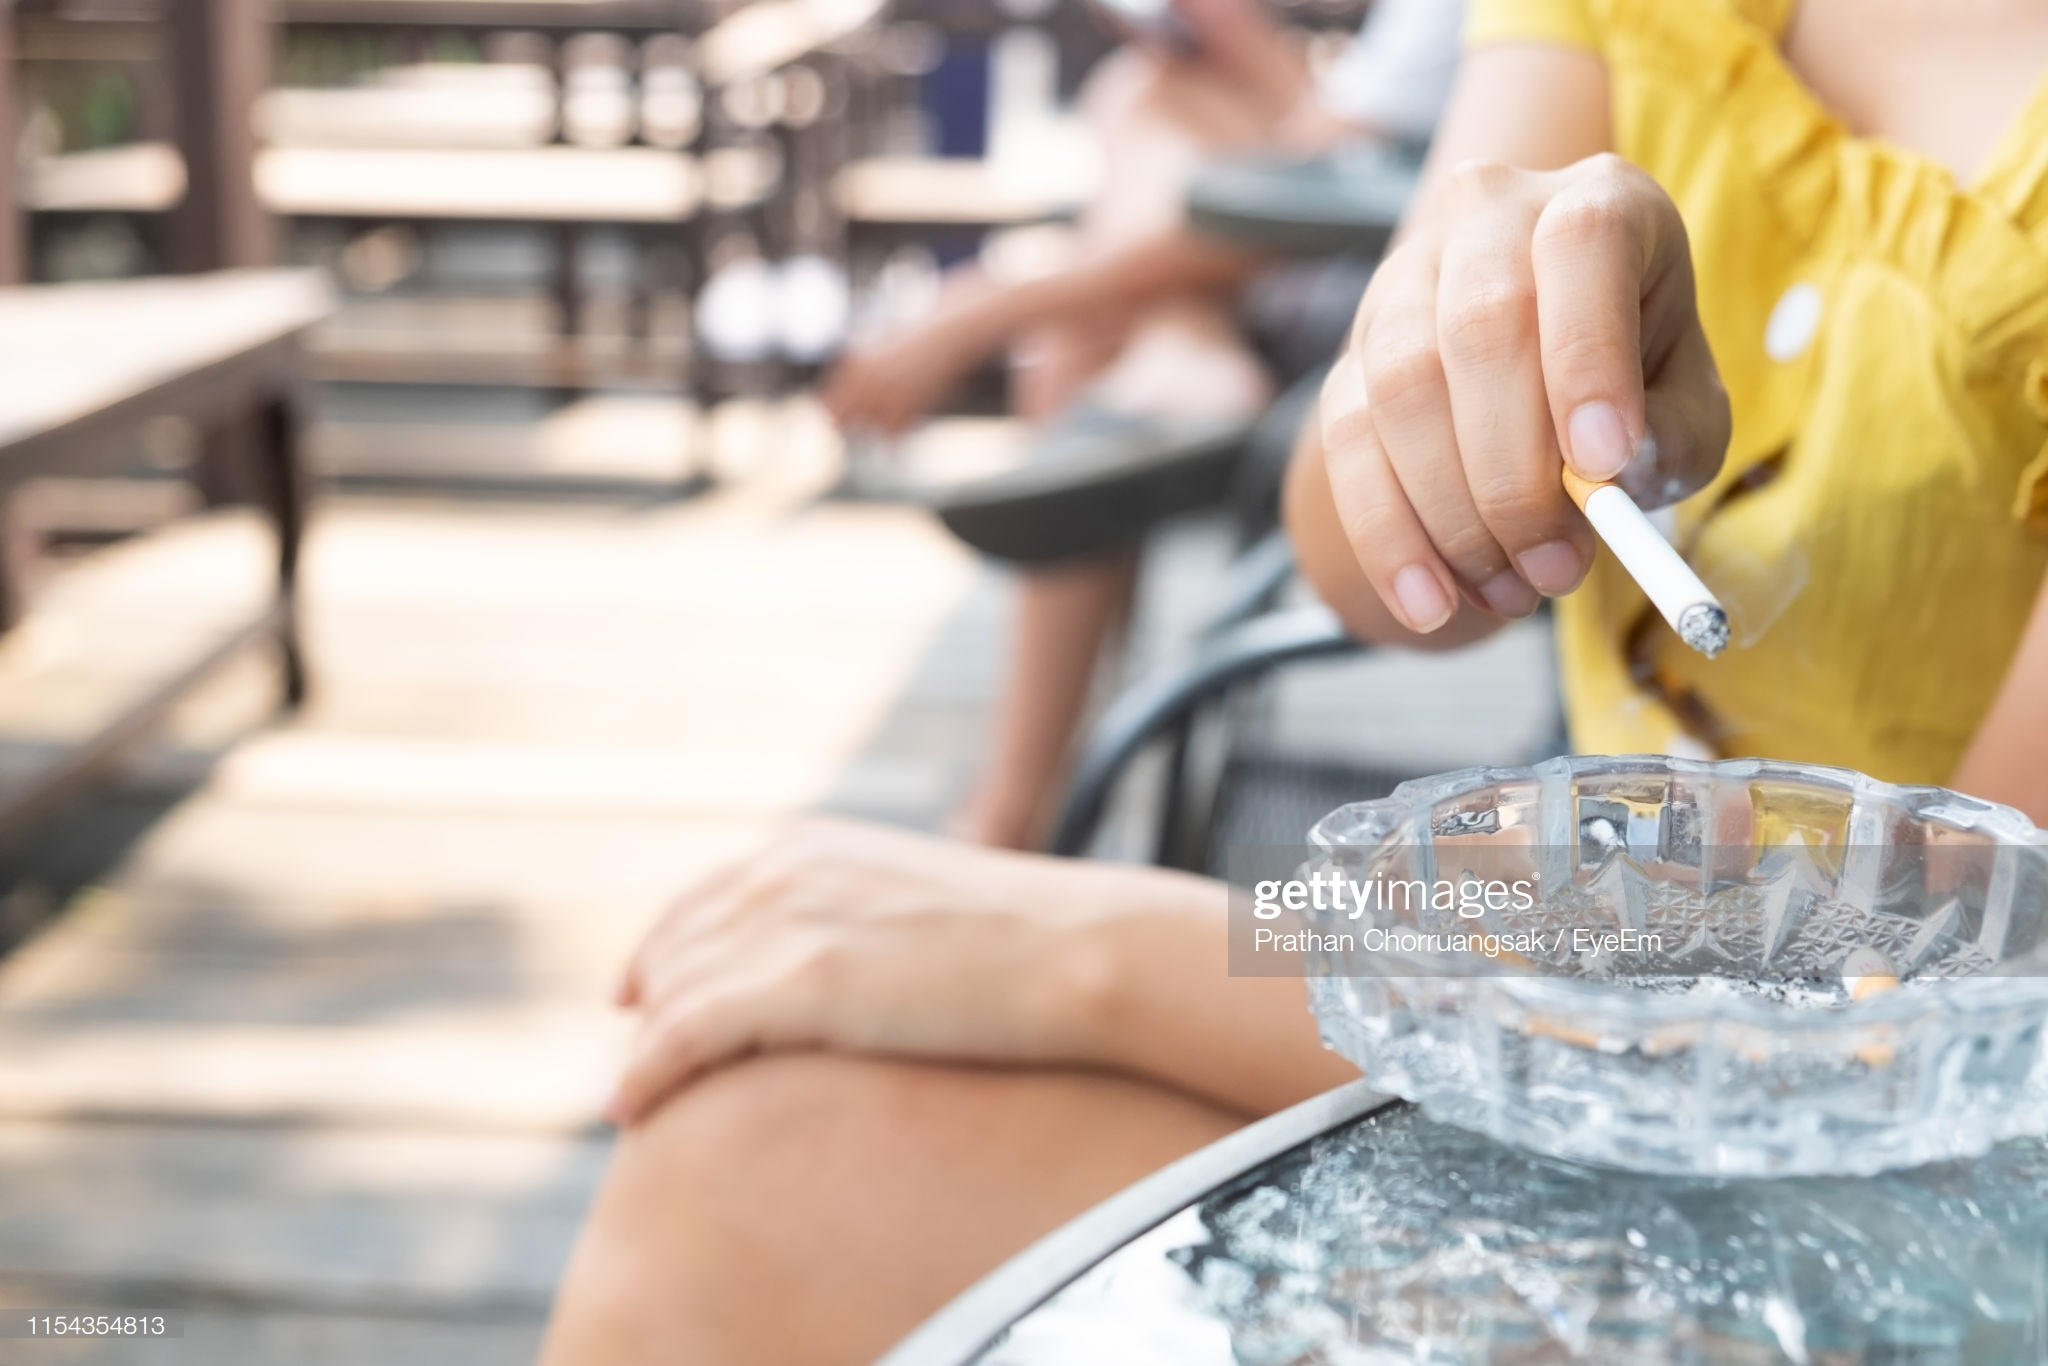sigaretta: (1562, 460, 1731, 656)
